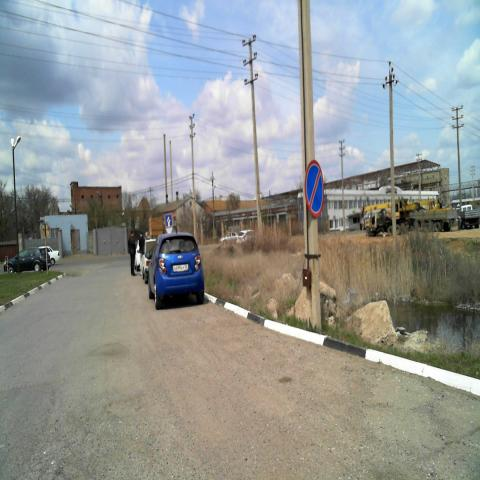3_28: (304, 160, 324, 219)
